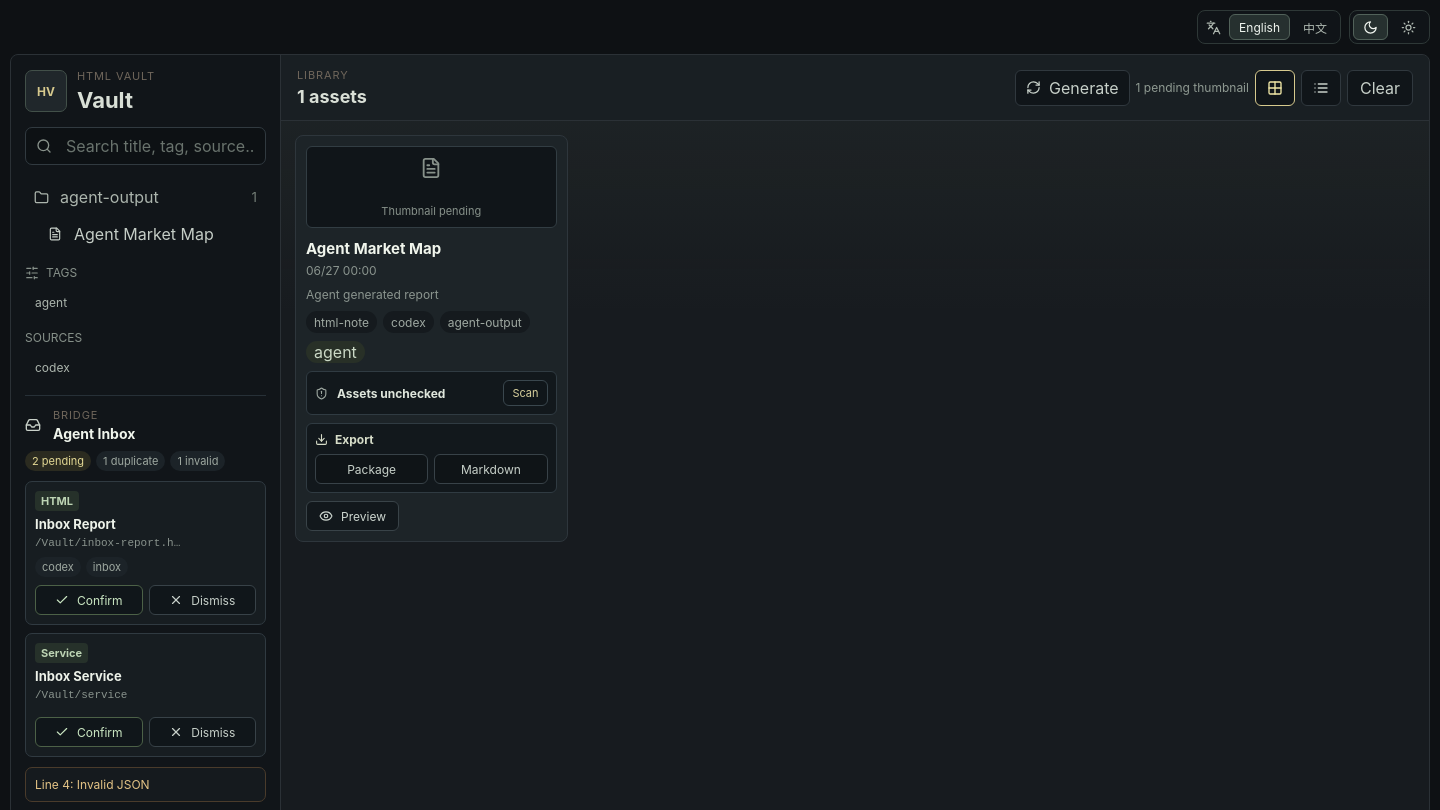
App workspace › loads agent inbox requests into the Vault home and handles confirm and dismiss
The image size is (1440, 810).
Expected: the text "Inbox Report" is shown, [35,516,116,532]
Expected: the text "Inbox Service" is shown, [35,668,122,684]
Click the button with aria-label "Confirm Inbox Report" at point(89, 600), box [35,585,142,615]
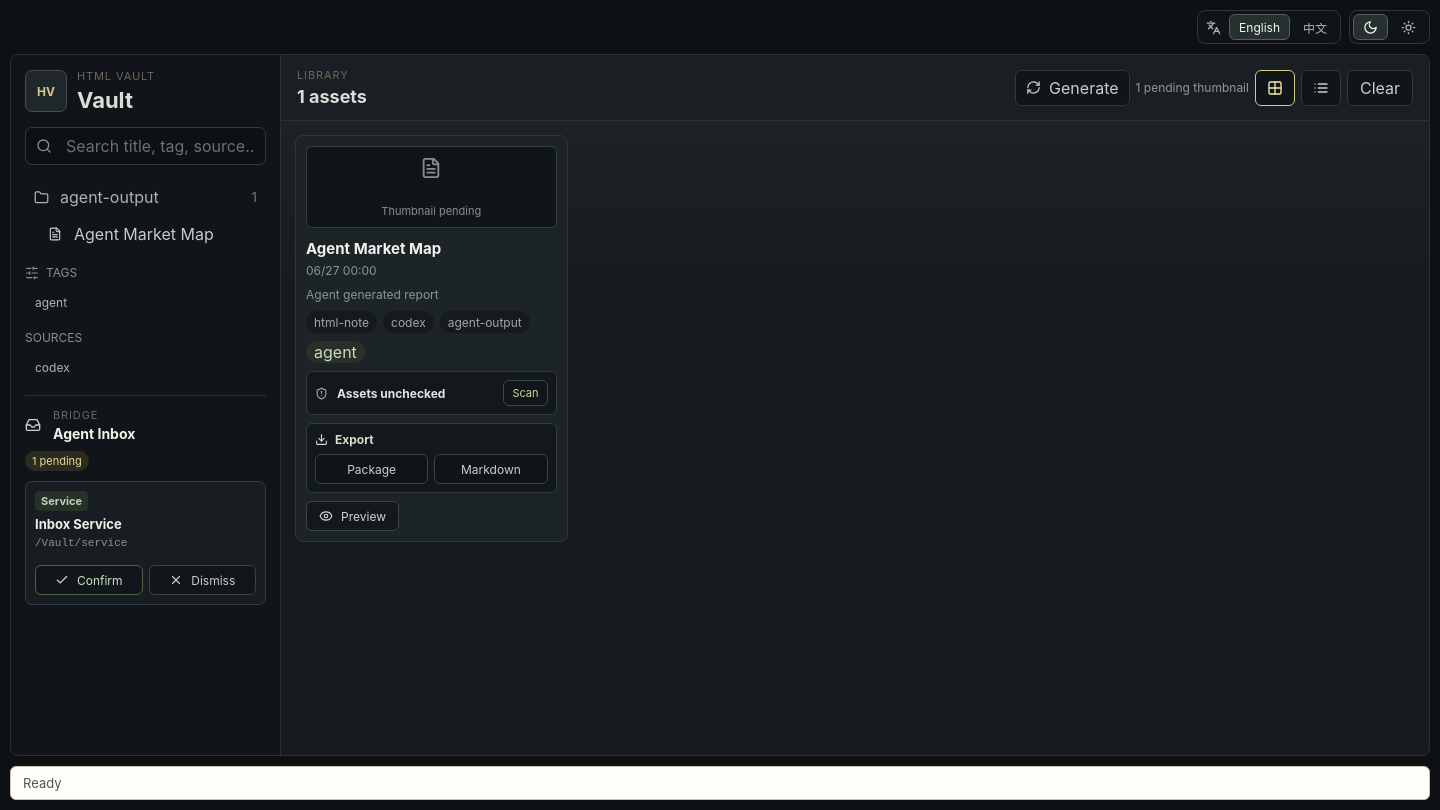
Expected: the text "Inbox Service" is shown, [35,516,122,532]
Click the button with aria-label "Dismiss Inbox Service" at point(202, 580), box [148,565,256,595]
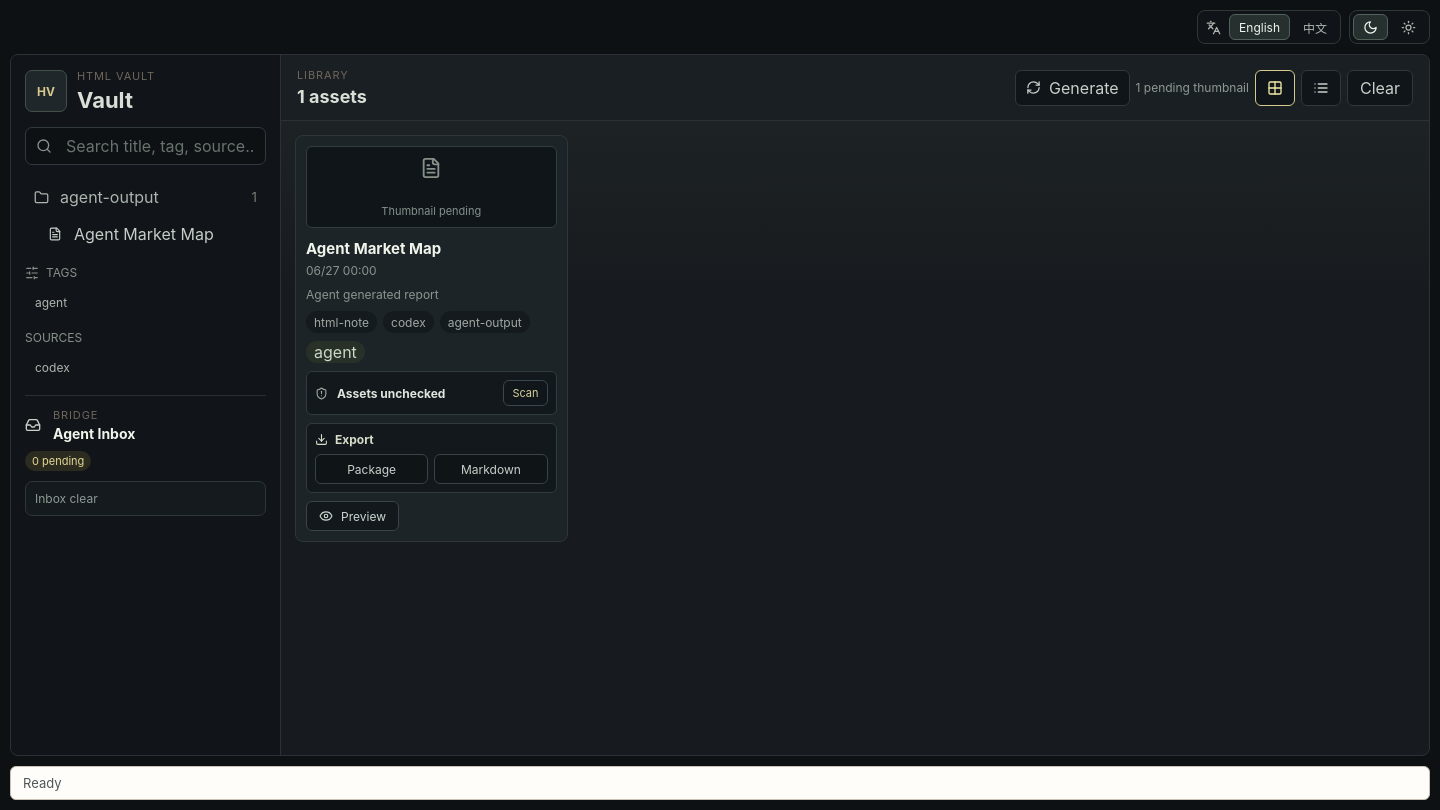
Result: the text "Inbox clear" is shown at [25,481,266,516]
